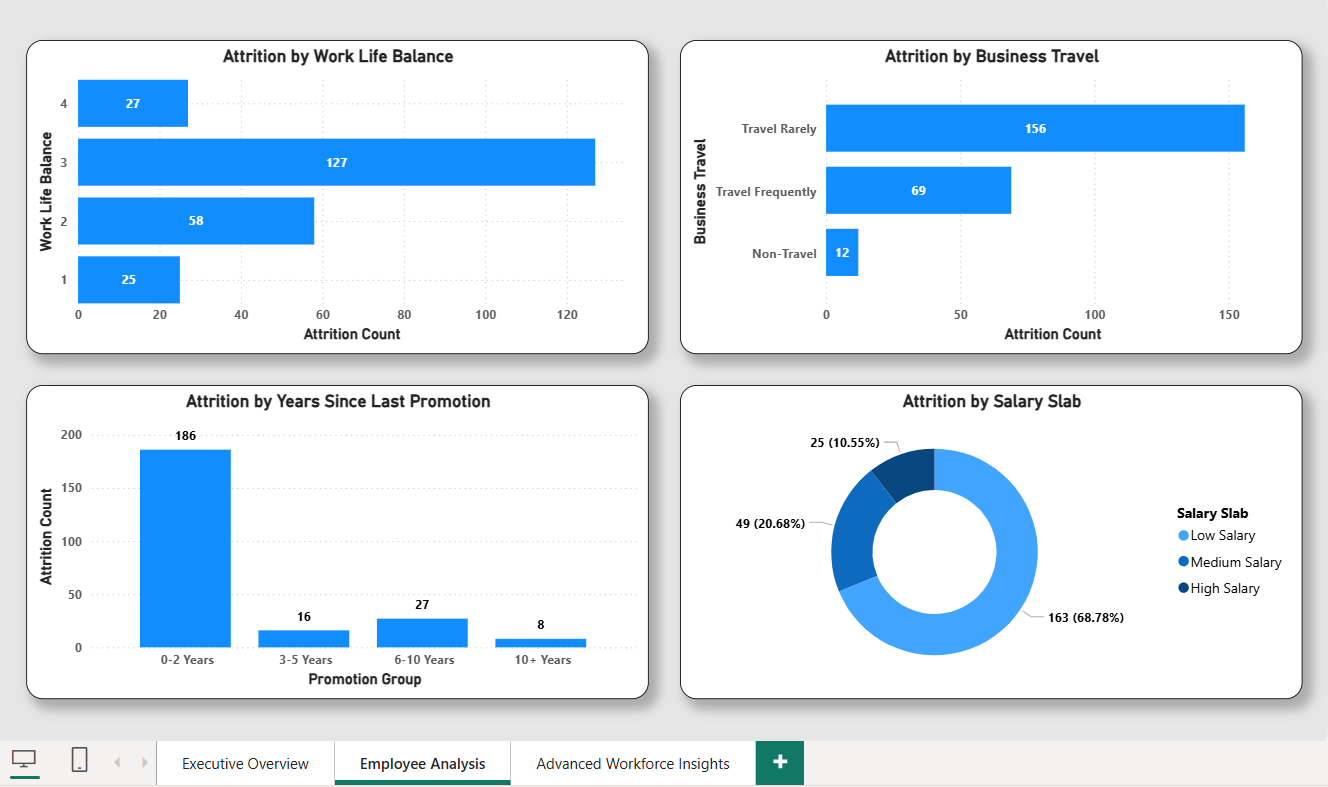

The page's visual inventory and layout, read from the dashboard file:
{"tool":"powerbi","page":{"name":"Employee Analysis","canvas":[1280,720],"ordinal":1},"visuals":[{"type":"clusteredBarChart","title":"Attrition by Work Life Balance","fields":{"Category":["IBM HR Analytics.Work Life Balance"],"Y":["IBM HR Analytics.Attrition Count"]},"box":[25.3,43.4,600.8,302.8],"z":0},{"type":"clusteredBarChart","title":"Attrition by Business Travel","fields":{"Category":["IBM HR Analytics.Business Travel"],"Y":["IBM HR Analytics.Attrition Count"]},"box":[656.3,43.4,600.8,302.8],"z":1000},{"type":"clusteredColumnChart","title":"Attrition by Years Since Last Promotion","fields":{"Y":["IBM HR Analytics.Attrition Count"],"Category":["IBM HR Analytics.Promotion Group"]},"box":[25.3,376.4,600.8,302.8],"z":2000},{"type":"donutChart","title":"Attrition by Salary Slab","fields":{"Category":["IBM HR Analytics.Salary Slab"],"Y":["IBM HR Analytics.Attrition Count"]},"box":[656.3,376.4,600.8,302.8],"z":3000}]}

Visuals, with their boxes on the page's 1280x720 design canvas (x1, y1, x2, y2). These are canvas units, not pixel positions in the 1328x787 screenshot, which may show the page scaled, cropped or inside an application window:
"Attrition by Work Life Balance" clusteredBarChart: [left=25, top=43, right=626, bottom=346]
"Attrition by Business Travel" clusteredBarChart: [left=656, top=43, right=1257, bottom=346]
"Attrition by Years Since Last Promotion" clusteredColumnChart: [left=25, top=376, right=626, bottom=679]
"Attrition by Salary Slab" donutChart: [left=656, top=376, right=1257, bottom=679]
